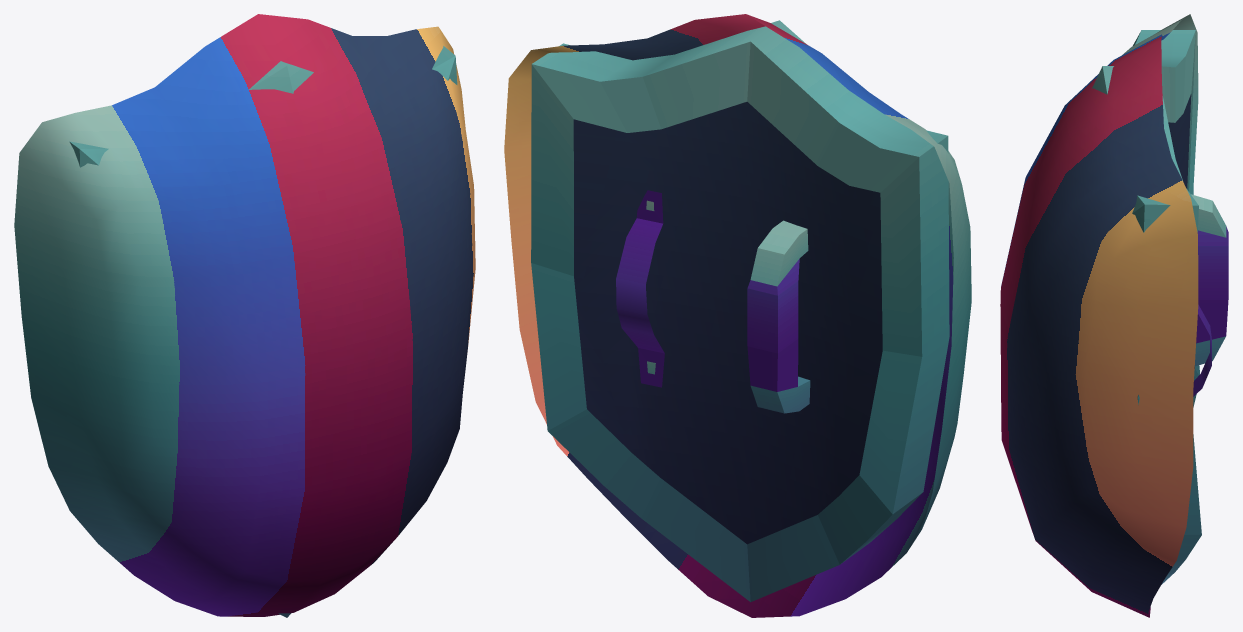
Rendered from Shield.fbx.
The picture shows the model from 3 angles, left to right: view 1: azimuth 30°, elevation 25°; view 2: azimuth 150°, elevation 25°; view 3: azimuth 270°, elevation 25°; orthographic projection. The views are drawn at different scales.
Visible parts, largest first — view 1: pCube4, pCube37; view 2: pCube37, pCube4; view 3: pCube4, pCube37.
Boxes of the visible parts, box(x1,y1,x2,y2) form: pCube4: box(14, 14, 475, 616); pCube37: box(69, 46, 457, 617); pCube37: box(531, 20, 949, 602); pCube4: box(504, 14, 971, 617); pCube4: box(1000, 14, 1198, 617); pCube37: box(1092, 30, 1228, 584).
Bounding box in the file's own units: 1.15 × 1.48 × 0.5392.
